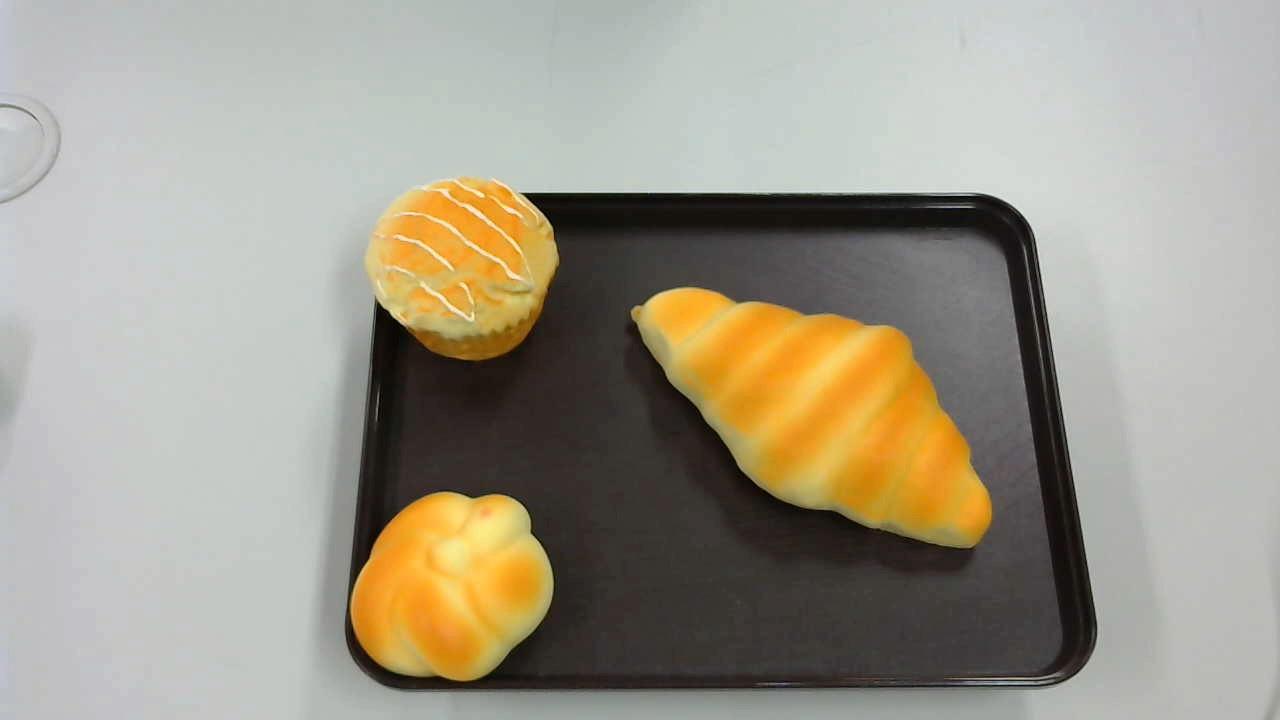croissant: (630, 288, 992, 544), (350, 491, 554, 679)
cupcake: (364, 175, 560, 361)
